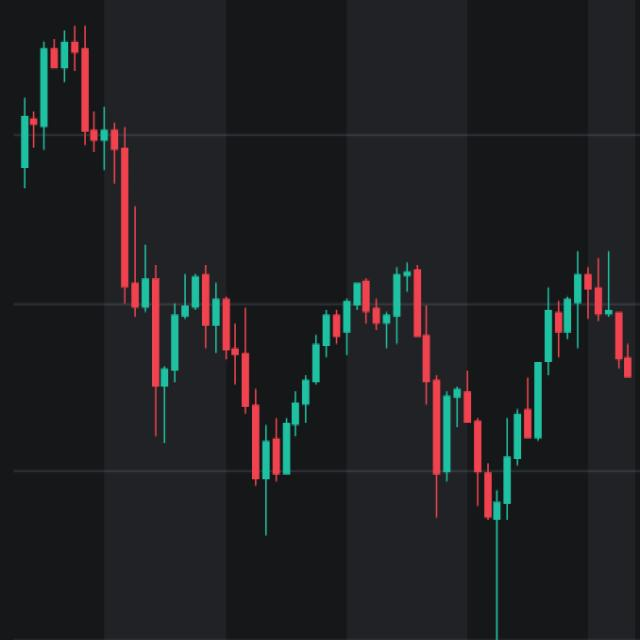Resistance-Emerging: (156, 253, 636, 527)
